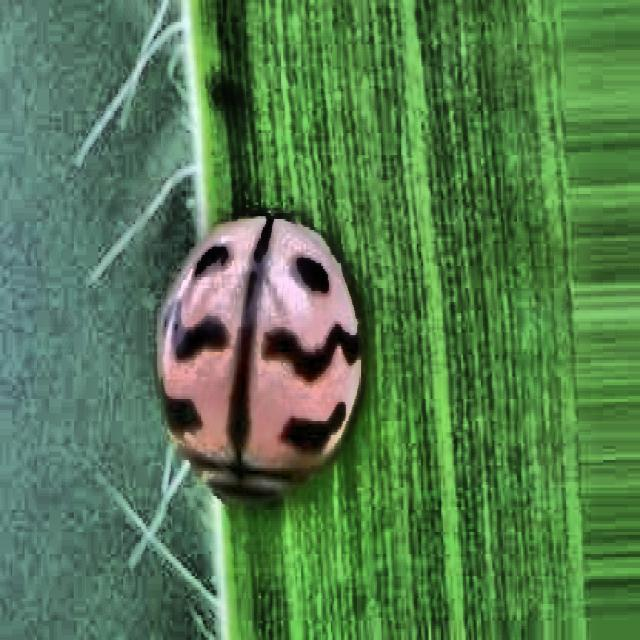Asian-Lady-beetle: (102, 117, 462, 555)
